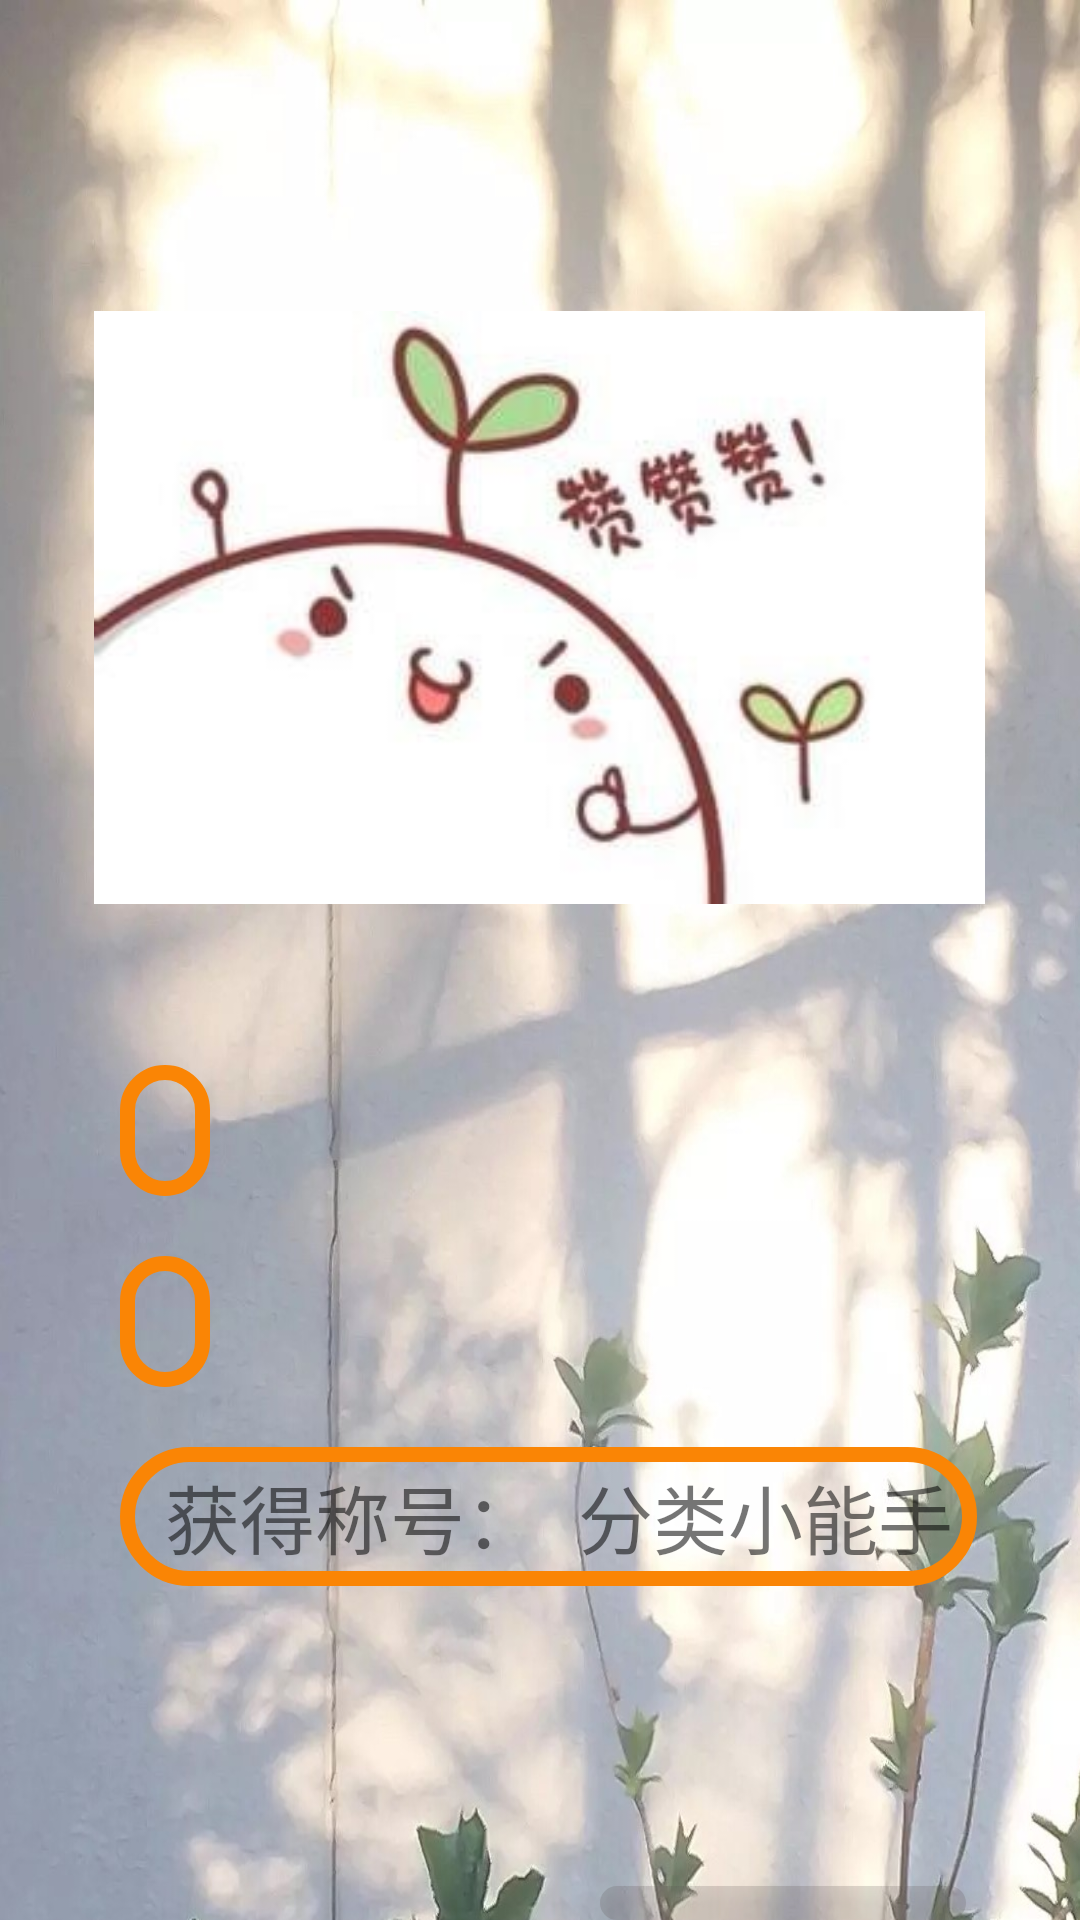

Icon click points for this 1080 x 1920 phone screenshot, format (x=x, y=y):
circlekuang: (x=165, y=1130), (x=165, y=1321)
